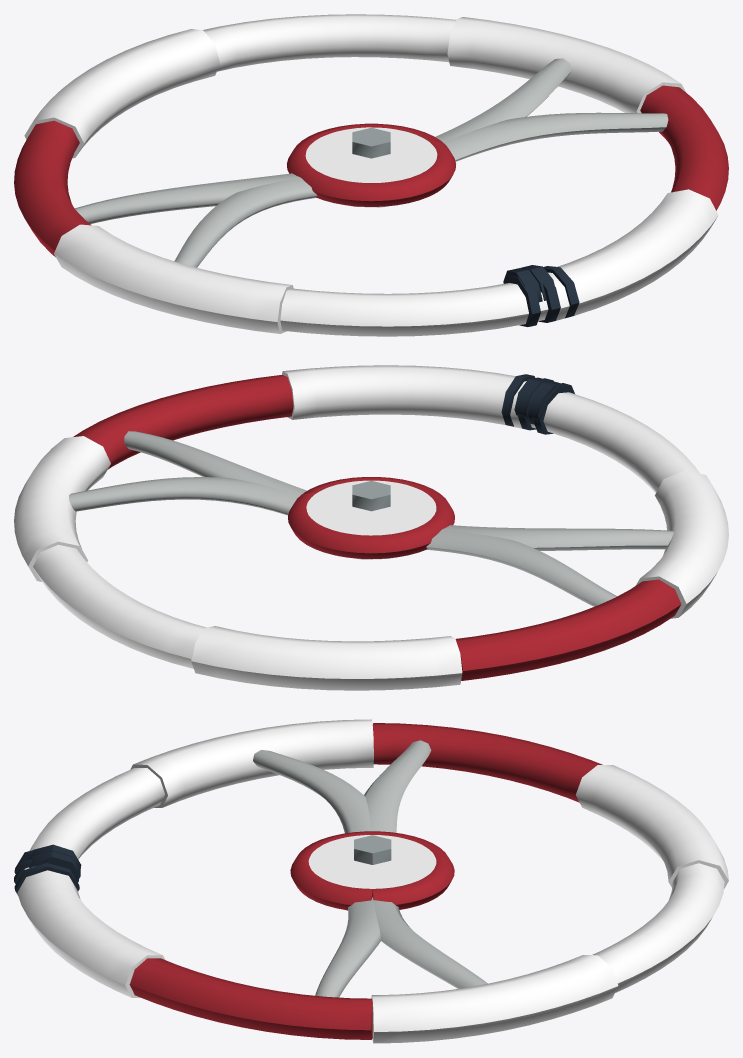
The model's file is Wheel_17_SR_白鋼・赤稜.glb.
3 views of the same model, one above another, from view 1: azimuth 30°, elevation 25°; view 2: azimuth 150°, elevation 25°; view 3: azimuth 270°, elevation 25° (orthographic). The views are drawn at different scales.
Parts seen in each view (by area): view 1: Wheel_17_SR; view 2: Wheel_17_SR; view 3: Wheel_17_SR.
Part boxes in pixels (left/top/right/bottom): Wheel_17_SR: left=14, top=14, right=728, bottom=336; Wheel_17_SR: left=14, top=365, right=728, bottom=690; Wheel_17_SR: left=14, top=719, right=728, bottom=1043.
Size of the model in its own units: 0.3295 by 0.0299 by 0.3306.
Materials: 4 (4 with a texture image).
